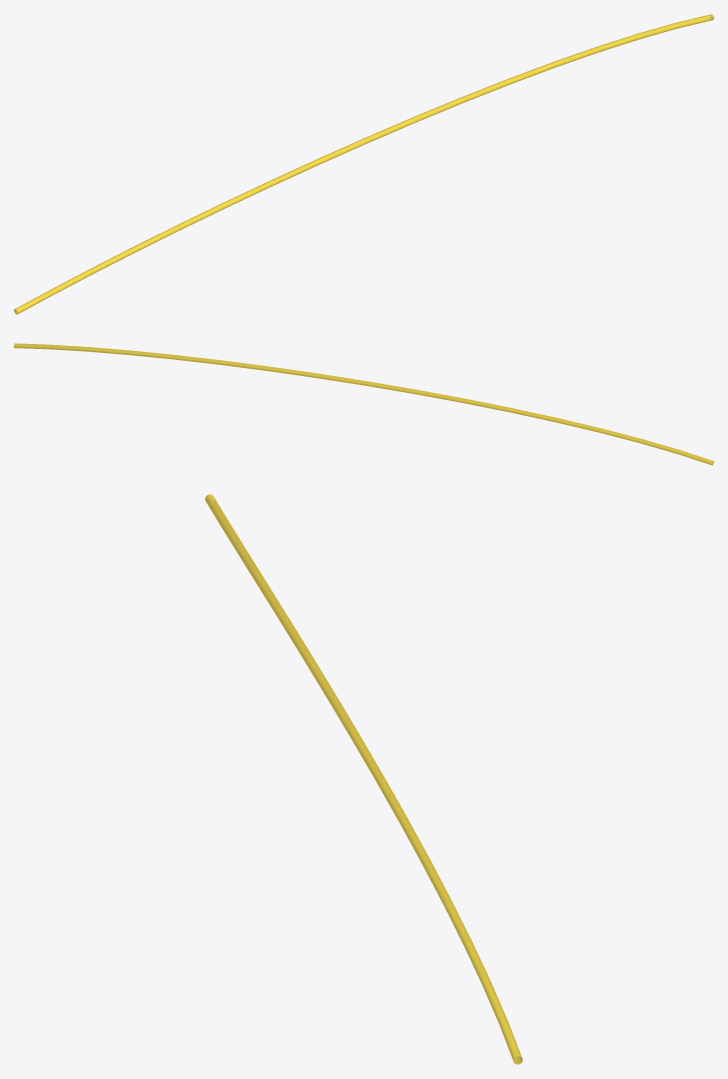
File: Event_31209032_track_19.fbx
3 views of the same model, one above another, from view 1: azimuth 30°, elevation 25°; view 2: azimuth 150°, elevation 25°; view 3: azimuth 270°, elevation 25° (orthographic). The views are drawn at different scales.
Visible parts, largest first — view 1: Model; view 2: Model; view 3: Model.
Part boxes in pixels (bbox=[...]): Model: bbox=[14, 14, 713, 314]; Model: bbox=[14, 343, 713, 465]; Model: bbox=[205, 494, 522, 1064].
Bounding box in the file's own units: 6.02 × 0.3467 × 1.33.
